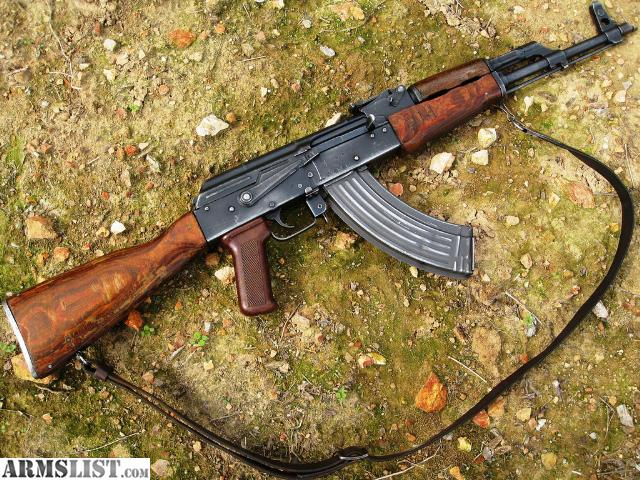Rifle: (2, 6, 637, 386)
